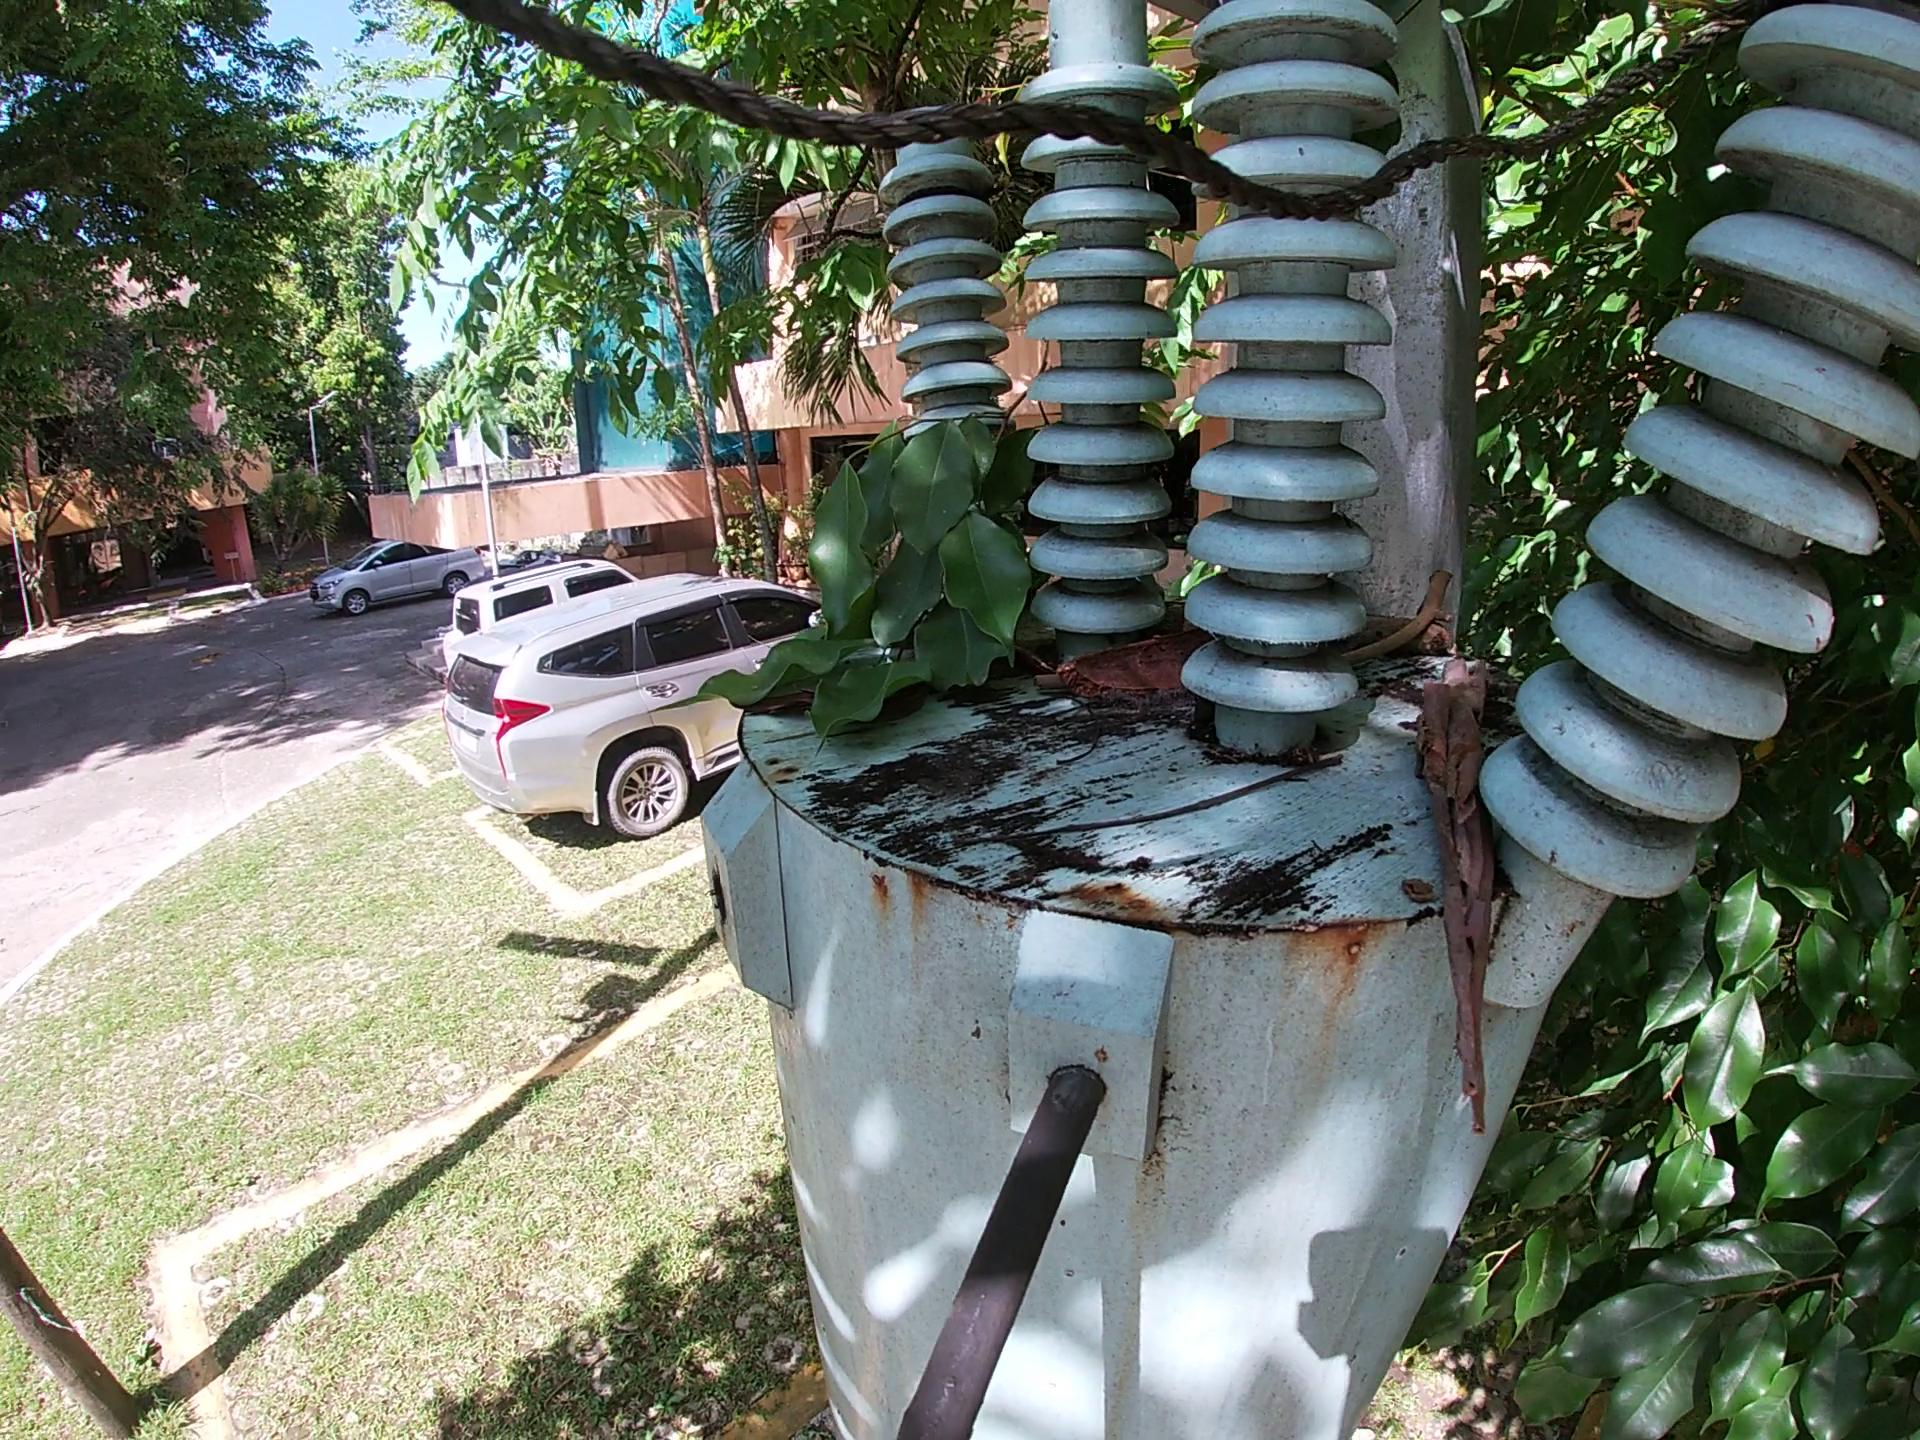branch with leaves: (667, 358, 1058, 750)
mahogany fruit: (1039, 635, 1225, 735), (751, 694, 841, 712)
tree branch: (1407, 638, 1522, 1148), (968, 746, 1359, 867), (1347, 572, 1463, 666), (1040, 706, 1108, 787), (1350, 608, 1456, 653), (1030, 667, 1079, 697)
